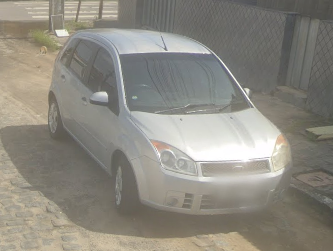car: (47, 27, 292, 221)
